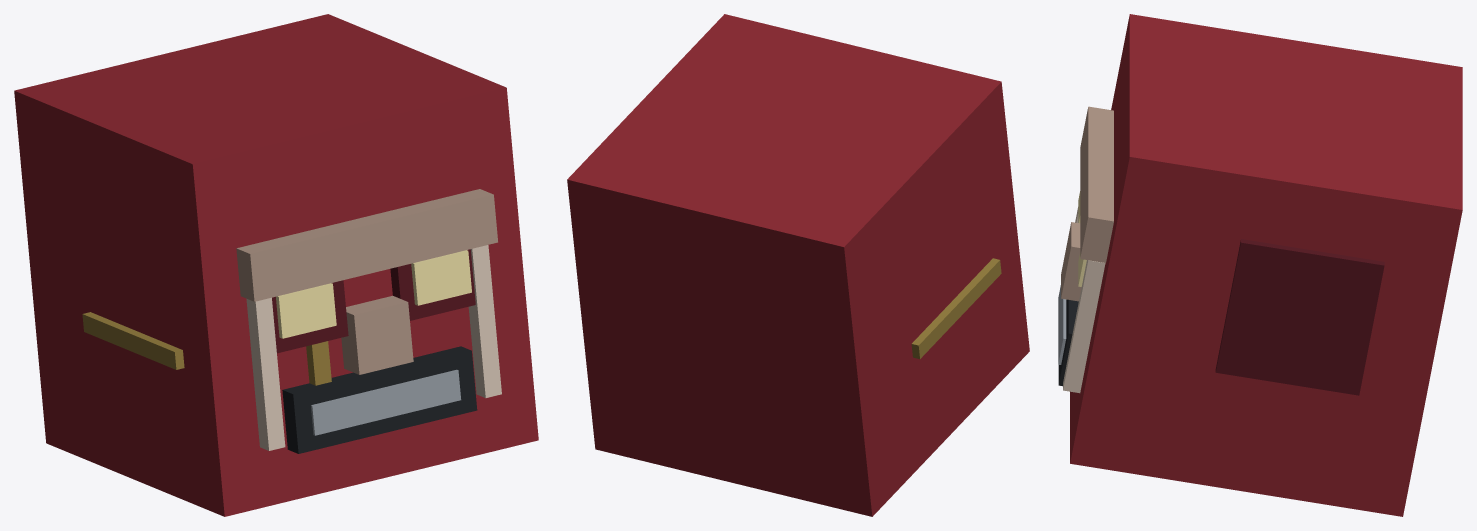
The model's file is inf_runner_head.fbx.
The picture shows the model from 3 angles, left to right: view 1: azimuth 30°, elevation 25°; view 2: azimuth 150°, elevation 25°; view 3: azimuth 270°, elevation 25°; orthographic projection. The views are drawn at different scales.
Visible parts, largest first — view 1: inf_runner_head; view 2: inf_runner_head; view 3: inf_runner_head.
Part boxes in pixels (<box>): inf_runner_head: <box>14,14,538,516</box>; inf_runner_head: <box>567,14,1029,516</box>; inf_runner_head: <box>1058,14,1462,516</box>.
Bounding box in the file's own units: 122 × 136 × 139.
